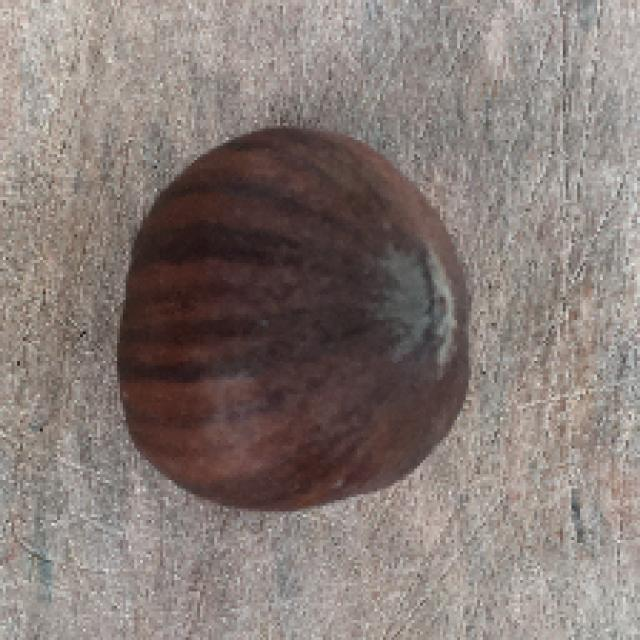damagedHazelnut: (113, 124, 477, 506)
